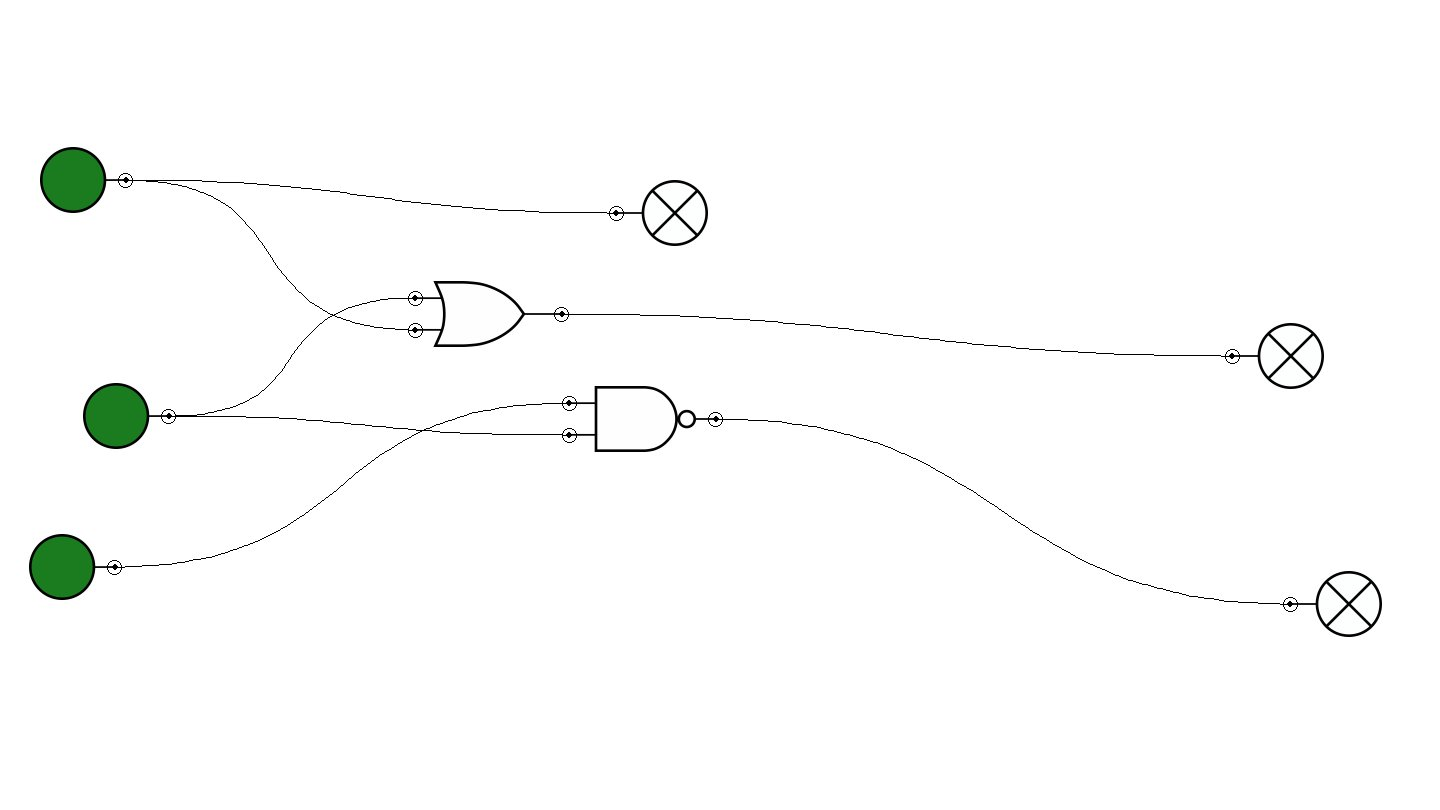bulb: (609, 180, 708, 246), (1225, 323, 1324, 389), (1283, 571, 1382, 637)
nand: (562, 386, 723, 452)
or: (408, 281, 569, 347)
switch_True: (40, 147, 133, 213), (83, 383, 176, 449), (29, 534, 122, 600)
